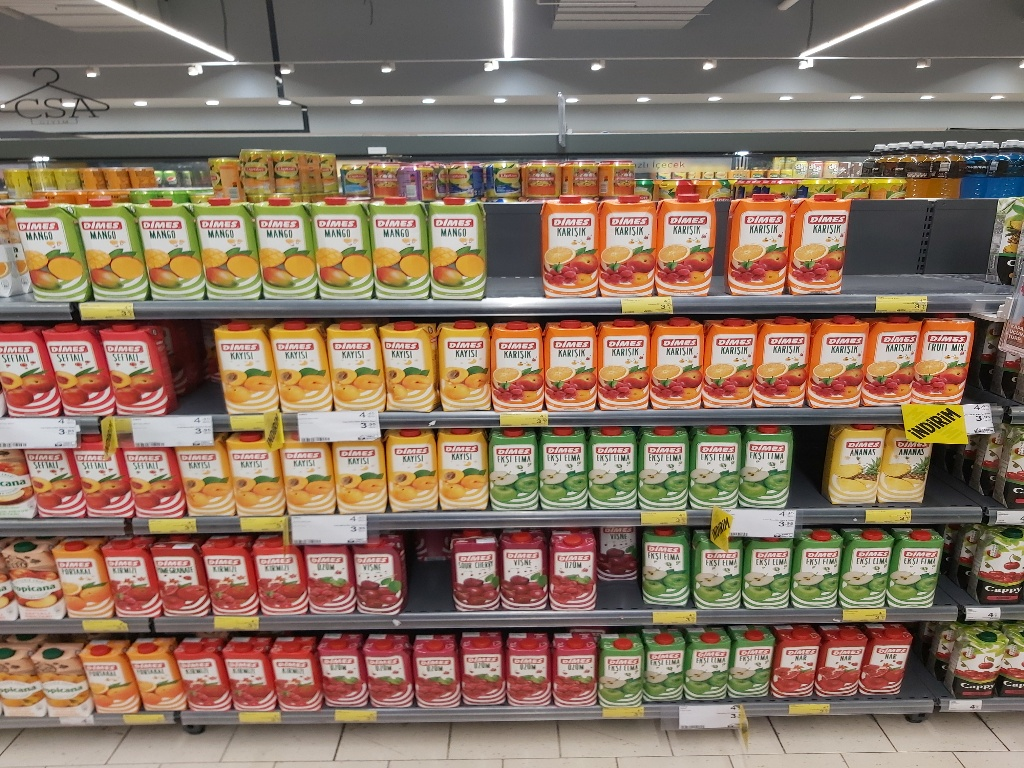urun: (193, 184, 259, 293), (253, 184, 319, 293), (372, 188, 438, 297), (788, 182, 854, 291), (312, 186, 378, 294), (82, 188, 147, 297), (136, 192, 201, 301), (429, 189, 494, 298), (540, 182, 605, 291), (598, 183, 663, 292), (653, 187, 718, 296), (723, 184, 788, 293), (106, 319, 174, 417), (44, 317, 104, 421), (1, 320, 60, 424), (320, 311, 385, 404), (266, 316, 330, 410), (375, 316, 439, 410), (484, 312, 548, 406), (594, 316, 658, 410), (758, 317, 822, 411), (216, 319, 280, 412), (429, 314, 493, 407), (538, 310, 602, 403), (649, 314, 713, 407), (700, 315, 764, 408), (812, 314, 876, 407), (864, 314, 928, 407), (923, 315, 987, 408), (248, 530, 305, 626), (298, 530, 355, 626), (105, 541, 161, 637), (155, 535, 211, 631), (195, 532, 251, 628), (343, 527, 399, 623), (442, 527, 498, 623), (494, 524, 550, 620), (548, 525, 604, 621), (635, 525, 694, 612), (49, 541, 109, 620), (70, 439, 127, 522), (381, 429, 438, 512), (124, 436, 180, 520), (173, 436, 229, 520), (282, 440, 338, 524), (26, 439, 82, 522), (227, 435, 283, 518), (329, 430, 385, 513), (433, 433, 489, 516), (484, 426, 540, 509), (534, 428, 590, 511), (584, 428, 640, 511), (634, 424, 690, 507), (689, 425, 745, 508), (740, 428, 796, 511), (831, 421, 887, 504), (882, 424, 938, 507), (12, 538, 61, 631), (696, 518, 746, 607), (746, 522, 796, 611), (795, 522, 845, 611), (845, 525, 895, 613), (892, 524, 942, 612), (177, 627, 227, 712), (124, 625, 174, 709), (86, 630, 136, 714), (35, 632, 83, 719), (365, 625, 415, 705), (317, 626, 362, 704), (223, 626, 268, 704), (463, 628, 507, 707), (416, 628, 460, 707), (273, 628, 317, 707), (865, 625, 909, 703), (732, 621, 776, 699), (645, 622, 689, 700), (605, 623, 649, 701), (550, 623, 594, 701), (504, 620, 548, 698), (818, 623, 861, 701), (776, 618, 819, 696), (689, 621, 732, 699), (1, 628, 31, 726)
urun2: (10, 193, 83, 300)
